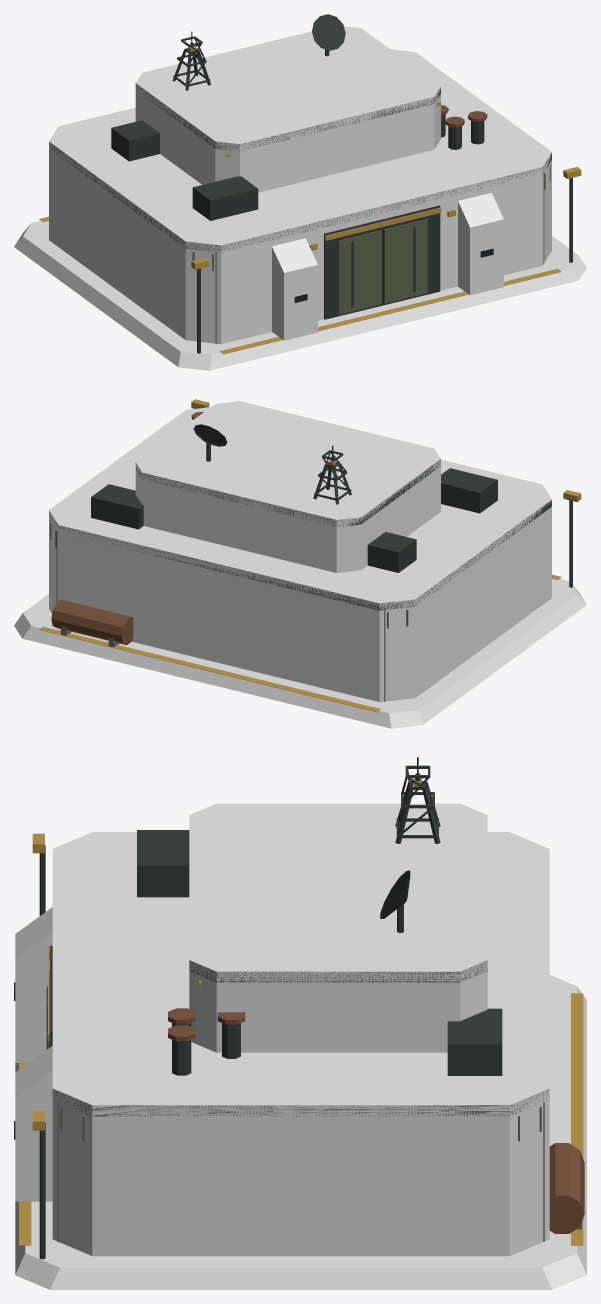
File: command_center_01.glb
3 renders of one model, top to bottom at view 1: azimuth 30°, elevation 25°; view 2: azimuth 150°, elevation 25°; view 3: azimuth 270°, elevation 25°, orthographic. The views are drawn at different scales.
Visible parts, largest first — view 1: COL_Hall, COL_Tier, COL_Plinth, GraphiteSteel_Geometry, Olive_Geometry, COL_ButtressL, COL_ButtressR, Roof_Geometry, SafetyYellow_Geometry; view 2: COL_Hall, COL_Tier, COL_Plinth, GraphiteSteel_Geometry, Roof_Geometry, Oxide_Geometry, SafetyYellow_Geometry, Olive_Geometry; view 3: COL_Hall, COL_Tier, COL_Plinth, GraphiteSteel_Geometry, COL_ButtressR, COL_ButtressL, Roof_Geometry, Oxide_Geometry, SafetyYellow_Geometry, Olive_Geometry.
Part boxes in pixels (x1,y1,x2,y2): COL_Hall: [49, 49, 551, 344]; COL_Tier: [135, 26, 440, 192]; COL_Plinth: [14, 221, 586, 370]; GraphiteSteel_Geometry: [111, 14, 572, 353]; Olive_Geometry: [192, 165, 550, 343]; COL_ButtressL: [272, 238, 317, 340]; COL_ButtressR: [458, 193, 503, 295]; Roof_Geometry: [49, 86, 551, 251]; SafetyYellow_Geometry: [39, 46, 581, 354]; COL_Hall: [49, 407, 551, 702]; COL_Tier: [135, 401, 440, 572]; COL_Plinth: [14, 578, 586, 728]; GraphiteSteel_Geometry: [91, 408, 572, 587]; Roof_Geometry: [50, 459, 551, 610]; Oxide_Geometry: [51, 411, 203, 645]; SafetyYellow_Geometry: [39, 399, 581, 712]; Olive_Geometry: [50, 523, 408, 701]; COL_Hall: [52, 832, 549, 1256]; COL_Tier: [189, 803, 487, 1052]; COL_Plinth: [15, 975, 586, 1289]; GraphiteSteel_Geometry: [39, 757, 502, 1259]; COL_ButtressR: [15, 1046, 52, 1201]; COL_ButtressL: [15, 907, 52, 1062]; Roof_Geometry: [53, 960, 549, 1116]; Oxide_Geometry: [168, 1008, 584, 1233]; SafetyYellow_Geometry: [19, 778, 583, 1245]; Olive_Geometry: [47, 970, 544, 1241].
Bounding box in the file's own units: 29 × 14.55 × 23.05.
